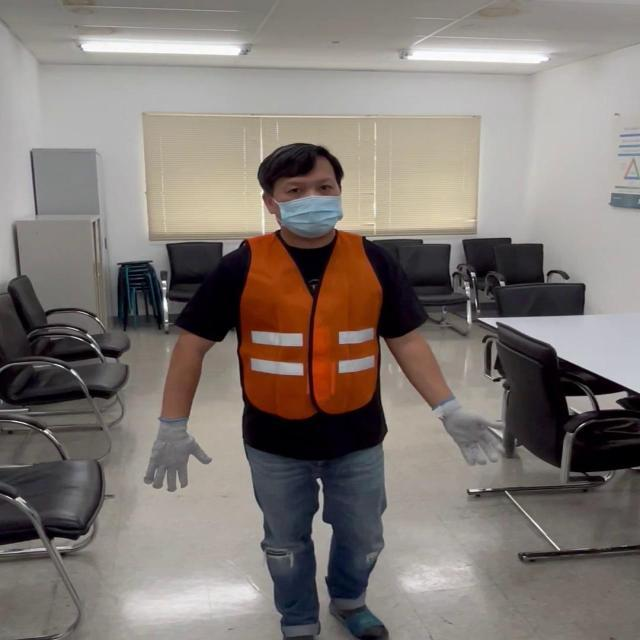gloved_hand: (437, 393, 508, 477), (141, 420, 215, 496)
